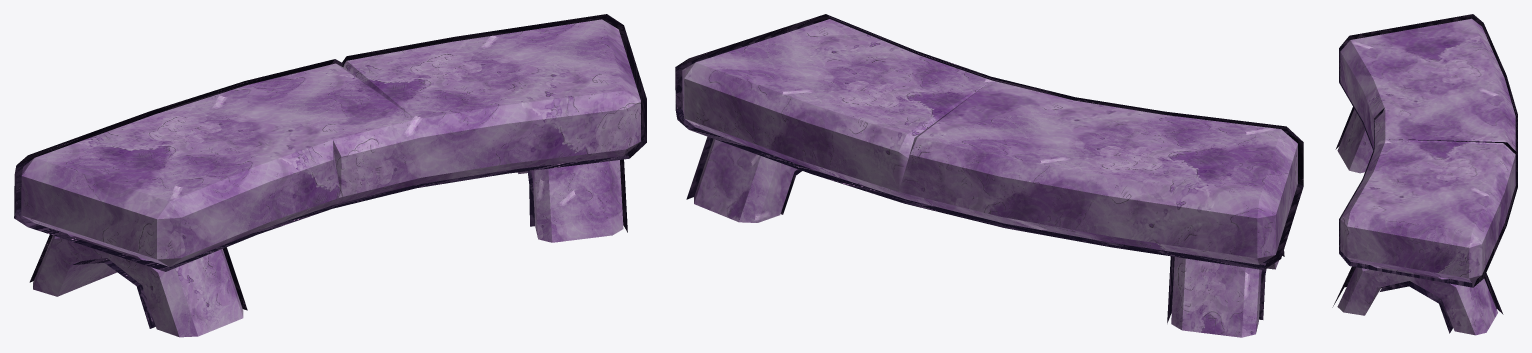
The model's file is Bench_01_Art.glb.
3 views of the same model, side by side, from view 1: azimuth 30°, elevation 25°; view 2: azimuth 150°, elevation 25°; view 3: azimuth 270°, elevation 25° (orthographic). The views are drawn at different scales.
Visible parts, largest first — view 1: Bench_01_Art; view 2: Bench_01_Art; view 3: Bench_01_Art.
Boxes of the visible parts, box(x1,y1,x2,y2) form: Bench_01_Art: box(14, 14, 646, 337); Bench_01_Art: box(675, 14, 1303, 337); Bench_01_Art: box(1332, 14, 1517, 335).
Size of what is drawn, in the model's own units: 3.7 by 0.8056 by 1.26.
2 materials, 2 textured.
